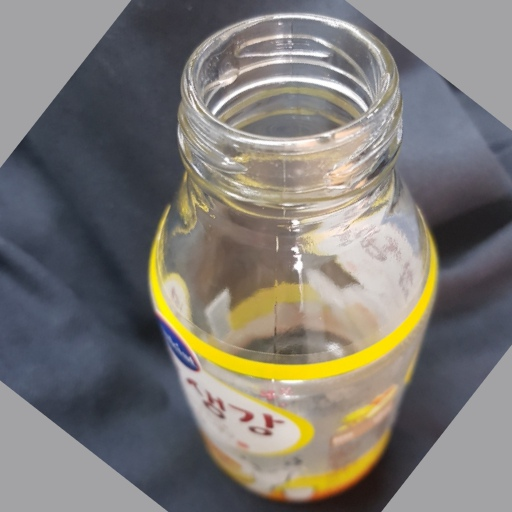Glass_4: (146, 16, 438, 502)
